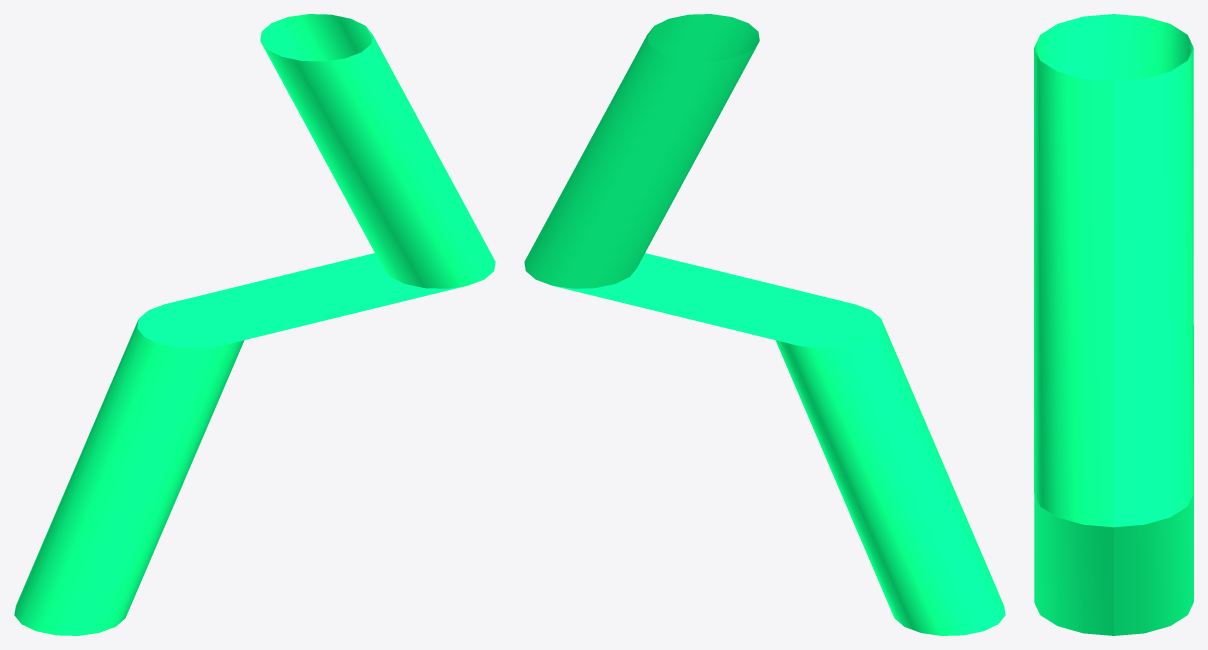
Rendered from binary_tree_traversal_ar_universal.glb.
3 renders of one model, left to right at view 1: azimuth 30°, elevation 25°; view 2: azimuth 150°, elevation 25°; view 3: azimuth 270°, elevation 25°, orthographic. The views are drawn at different scales.
Parts seen in each view (by area): view 1: binary_tree_traversal_ar; view 2: binary_tree_traversal_ar; view 3: binary_tree_traversal_ar.
Boxes of the visible parts, x1,y1,x2,y2 form: binary_tree_traversal_ar: (14,14,495,635); binary_tree_traversal_ar: (524,14,1005,635); binary_tree_traversal_ar: (1034,14,1193,635).
Bounding box in the file's own units: 0.9501 × 1 × 0.2002.
